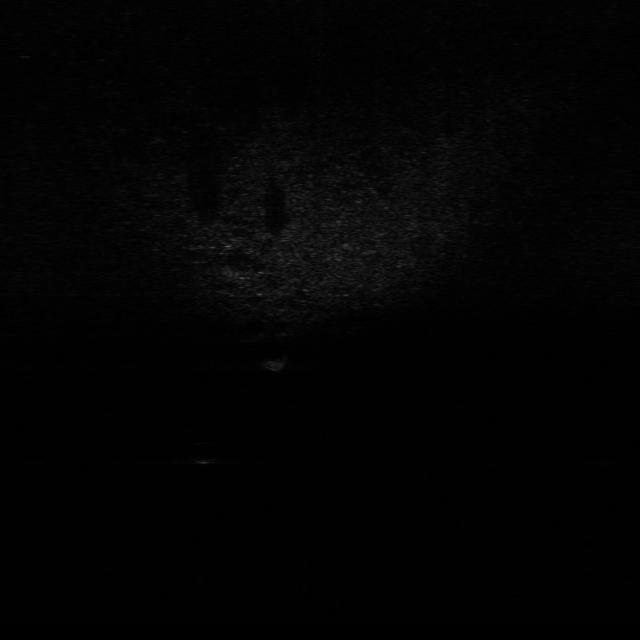ball: (187, 437, 224, 466)
cube: (253, 352, 292, 375)
